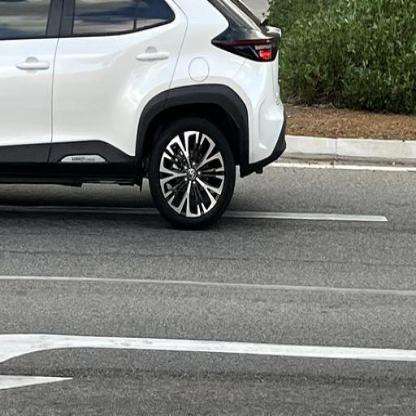Tire: (149, 117, 236, 230)
